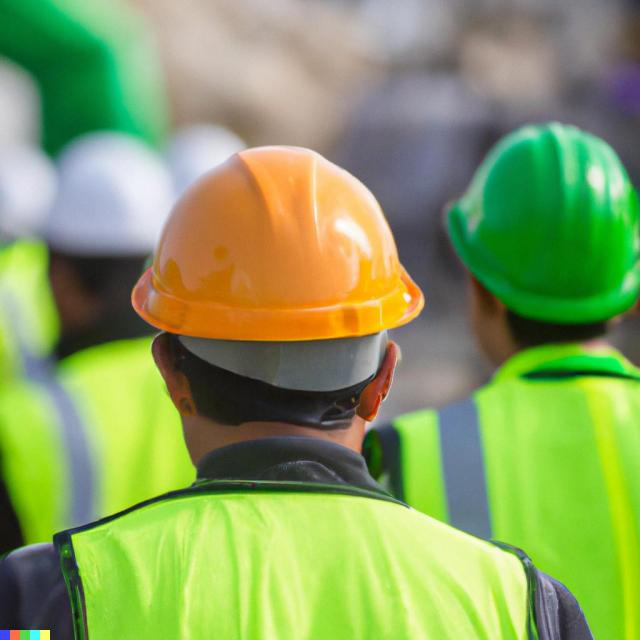Reflective-Jacket: (31, 484, 562, 636), (401, 350, 637, 634)
Safety-Helmet: (132, 143, 428, 341), (440, 116, 640, 325)
